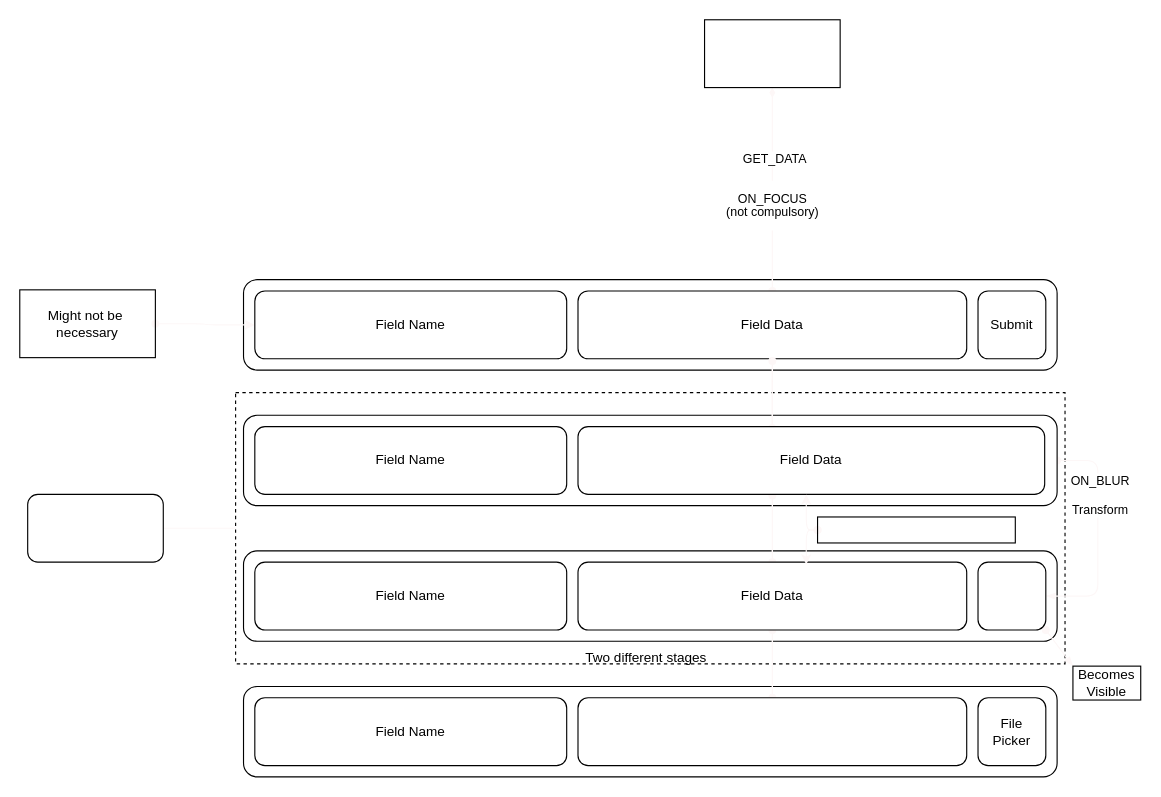
The diagram is 1161 pixels wide and 797 high, and some of its shapes have lost their labels. Here are the shapes that lost their labels. From the top down, the box of each, then its label:
(703, 19, 840, 88): Common Functions
(27, 493, 163, 562): ON_BLUR (only for this variant)
(816, 516, 1015, 543): Field Data readjusts
(977, 561, 1046, 630): Status icon
(577, 697, 967, 766): Field Data (Read only)
